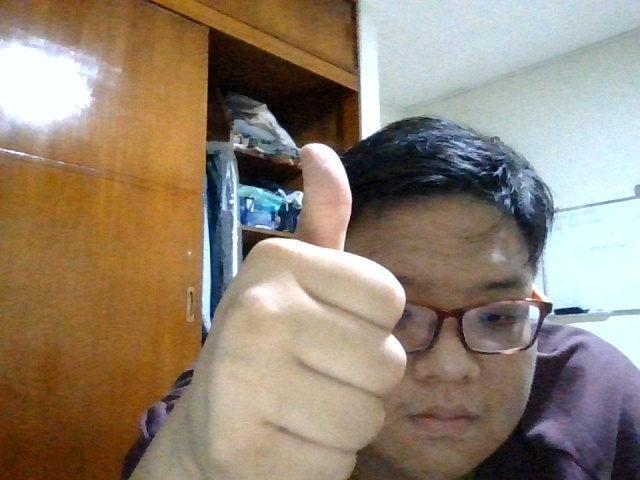si: (183, 143, 407, 478)
